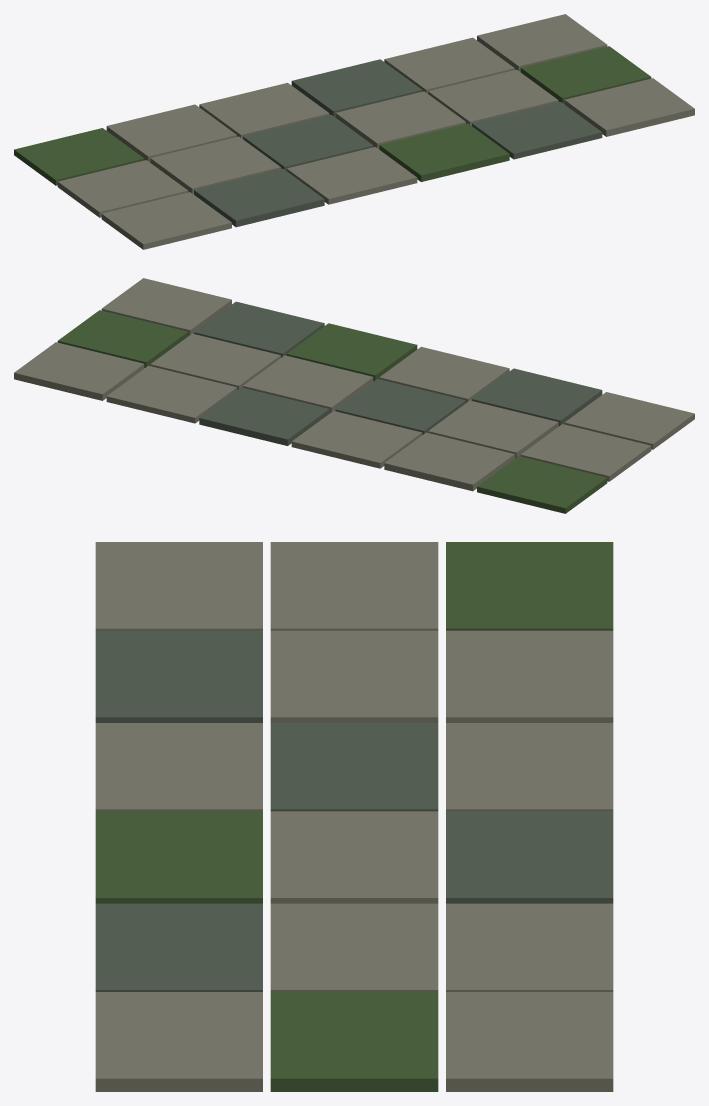
The model's file is shrine-approach-paving.obj.
3 views of the same model, one above another, from view 1: azimuth 30°, elevation 25°; view 2: azimuth 150°, elevation 25°; view 3: azimuth 270°, elevation 25° (orthographic). The views are drawn at different scales.
Size of the model in its own units: 5.6 by 0.064 by 2.28.
